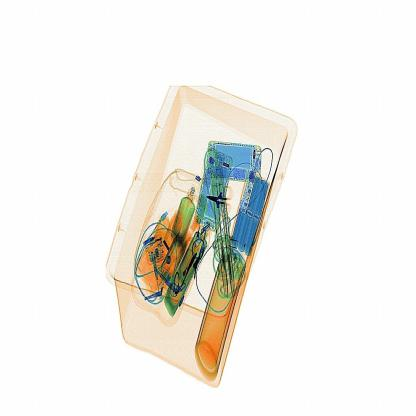gun: (206, 177, 235, 222)
